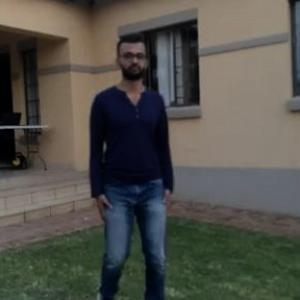follow: (84, 29, 175, 299)
